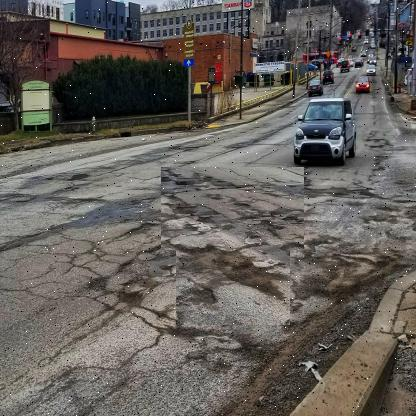crack: (18, 221, 136, 318)
damage: (160, 167, 304, 251), (175, 226, 290, 326)
